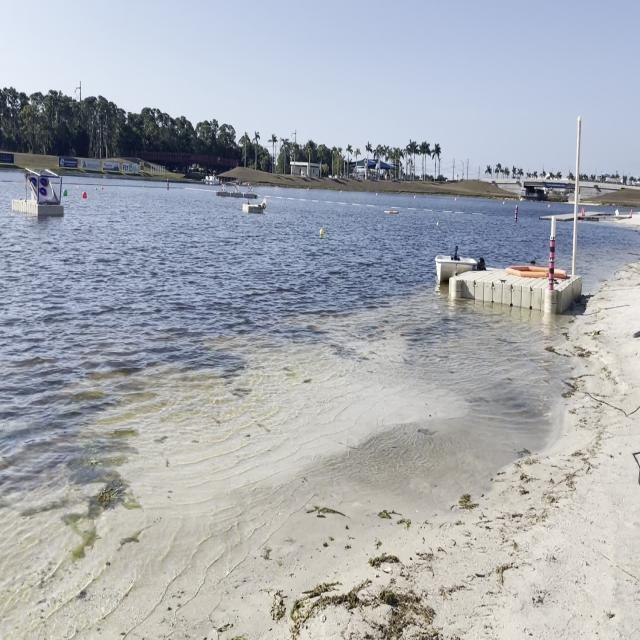buoy: (62, 188, 70, 198), (320, 226, 324, 238), (82, 192, 87, 198)
